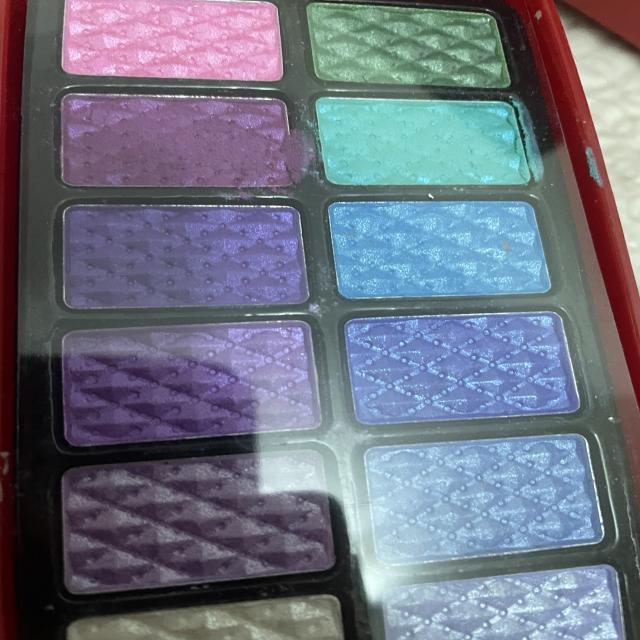eye shade: (49, 0, 636, 640)
